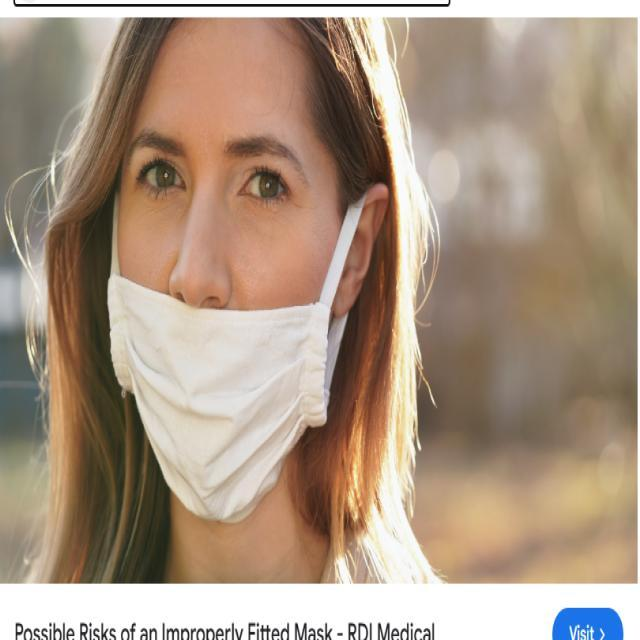face_half_mask: (111, 13, 372, 463)
